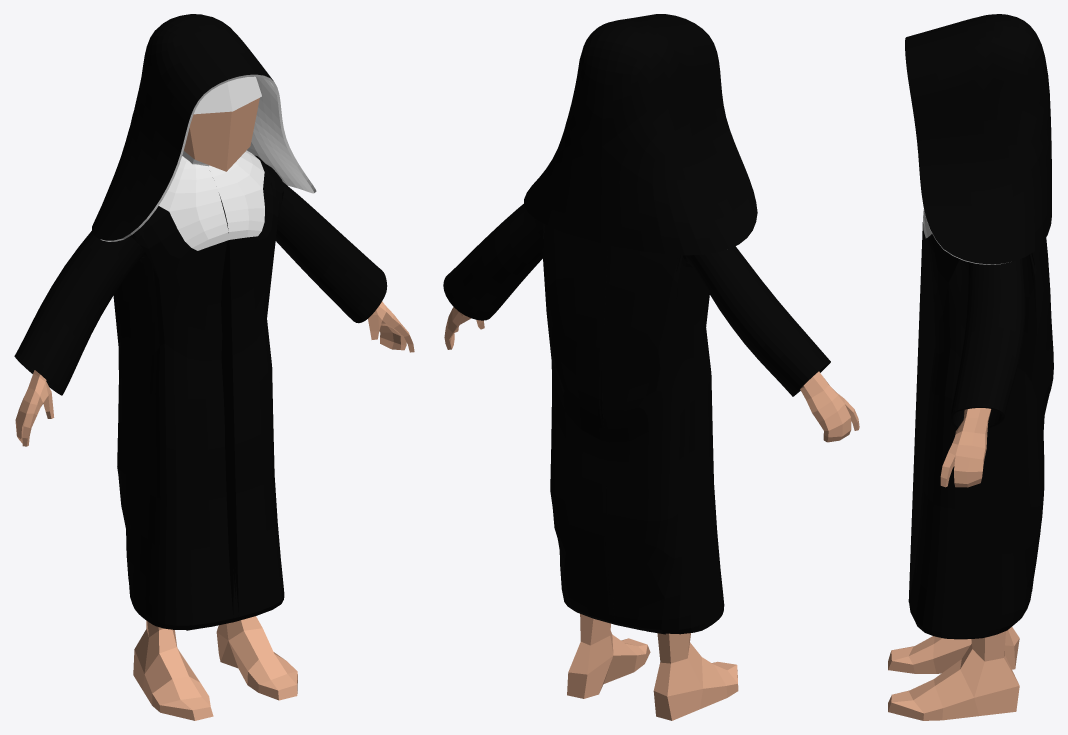
The model's file is sisterreligious.fbx.
3 views of the same model, side by side, from view 1: azimuth 30°, elevation 25°; view 2: azimuth 150°, elevation 25°; view 3: azimuth 270°, elevation 25° (orthographic). The views are drawn at different scales.
Parts seen in each view (by area): view 1: Cube.001; view 2: Cube.001; view 3: Cube.001.
Part boxes in pixels (<box>): Cube.001: <box>14,14,414,720</box>; Cube.001: <box>443,14,859,720</box>; Cube.001: <box>888,14,1053,720</box>.
Size of the model in its own units: 143 by 226 by 51.1.
